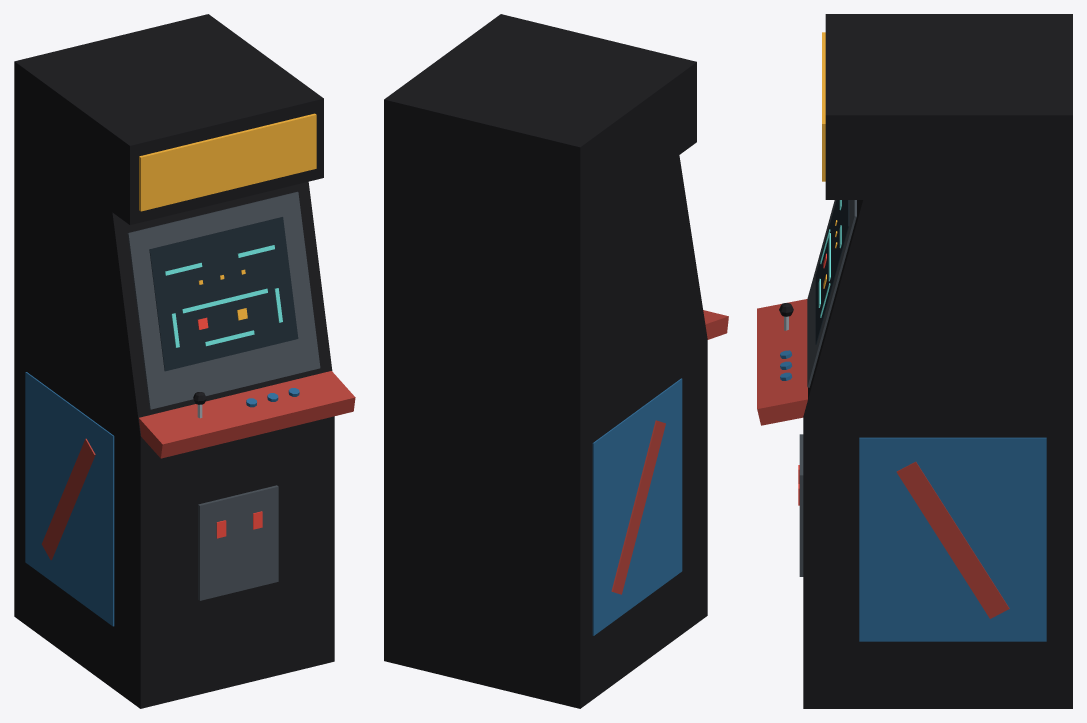
Rendered from GH_ArcadeUpright_01.glb.
The picture shows the model from 3 angles, left to right: view 1: azimuth 30°, elevation 25°; view 2: azimuth 150°, elevation 25°; view 3: azimuth 270°, elevation 25°; orthographic projection. The views are drawn at different scales.
Parts seen in each view (by area): view 1: GH_ArcadeUpright_01; view 2: GH_ArcadeUpright_01; view 3: GH_ArcadeUpright_01.
Boxes of the visible parts, x1,y1,x2,y2 form: GH_ArcadeUpright_01: (14, 14, 355, 708); GH_ArcadeUpright_01: (384, 14, 728, 708); GH_ArcadeUpright_01: (757, 14, 1072, 708).
Size of the model in its own units: 0.656 by 1.75 by 0.8432.
Materials: 1 (1 with a texture image).
